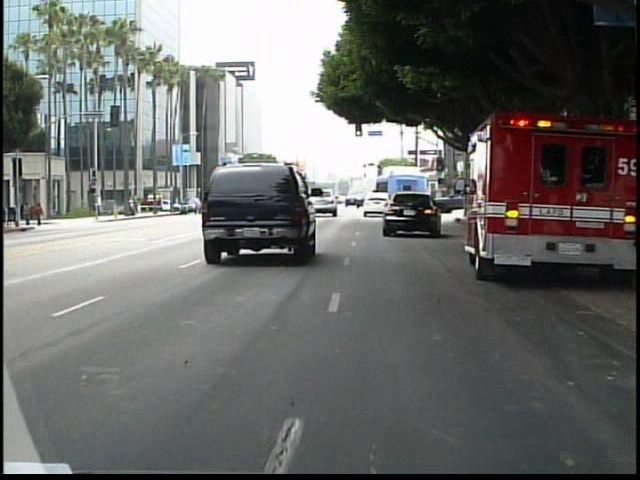person: (34, 200, 48, 230), (21, 200, 34, 229)
